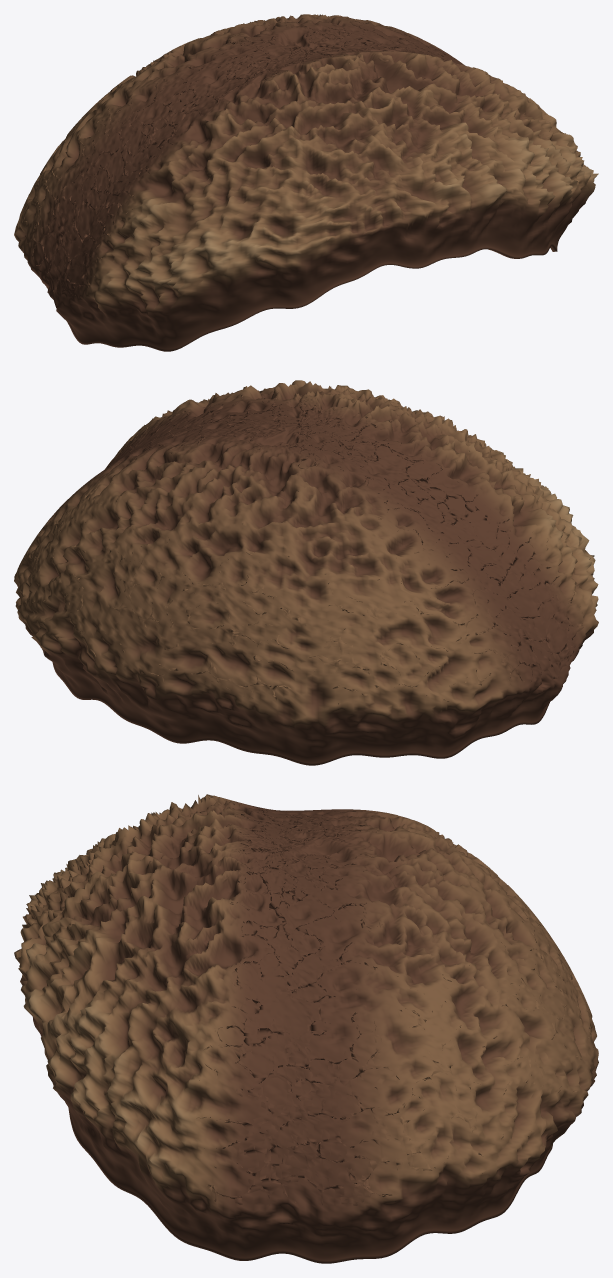
File: Masculine-afro-pashmina260-hair-ombre.glb
The picture shows the model from 3 angles, top to bottom: view 1: azimuth 30°, elevation 25°; view 2: azimuth 150°, elevation 25°; view 3: azimuth 270°, elevation 25°; orthographic projection. The views are drawn at different scales.
Parts seen in each view (by area): view 1: 226 hair / Hair252 / dense natural coil groups.001; view 2: 226 hair / Hair252 / dense natural coil groups.001; view 3: 226 hair / Hair252 / dense natural coil groups.001.
Boxes of the visible parts, x1,y1,x2,y2 form: 226 hair / Hair252 / dense natural coil groups.001: [14, 14, 598, 351]; 226 hair / Hair252 / dense natural coil groups.001: [14, 380, 598, 765]; 226 hair / Hair252 / dense natural coil groups.001: [14, 794, 598, 1263].
Bounding box in the file's own units: 1.06 × 0.4987 × 0.8736.
